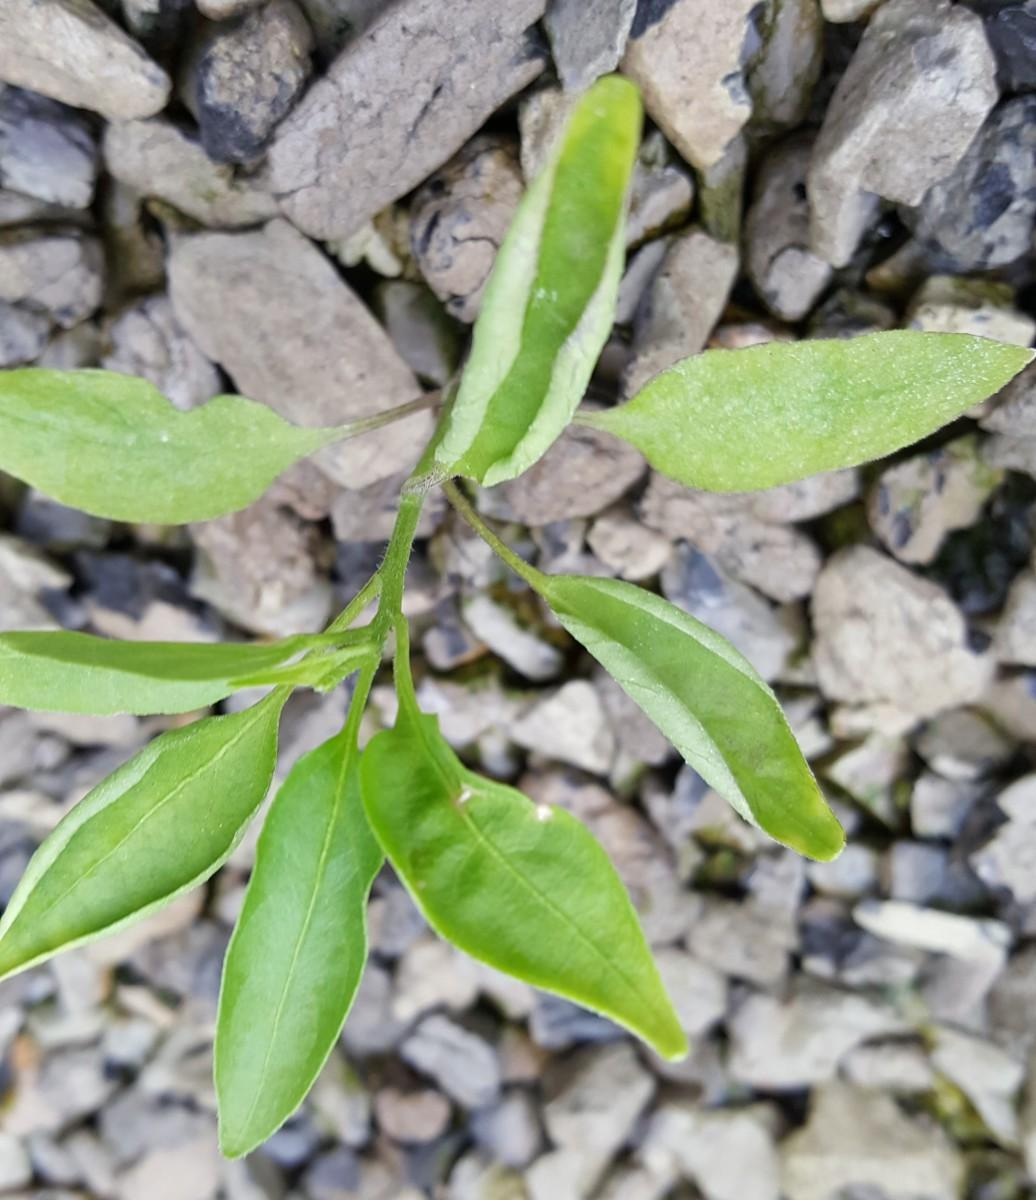Tomato leaf: (356, 713, 714, 1081), (188, 686, 423, 1158), (516, 560, 849, 872), (590, 309, 1036, 502), (1, 373, 333, 532)
